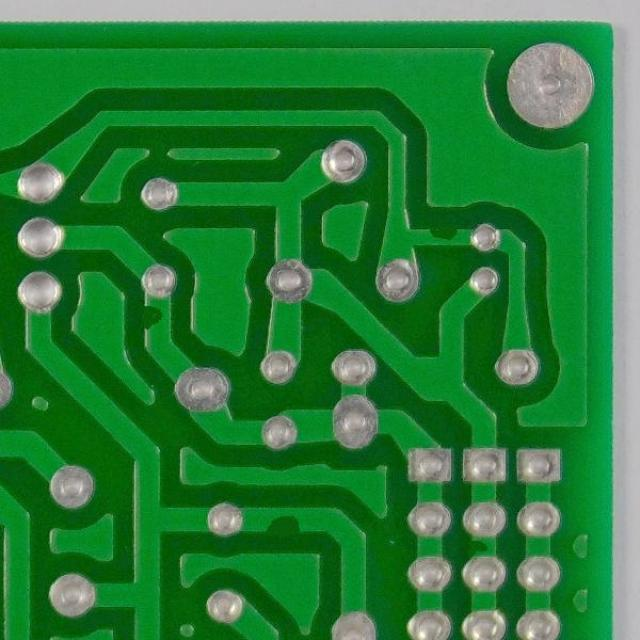mouse_bite: (139, 298, 177, 337), (260, 508, 306, 540), (426, 221, 463, 248), (466, 534, 499, 561)
